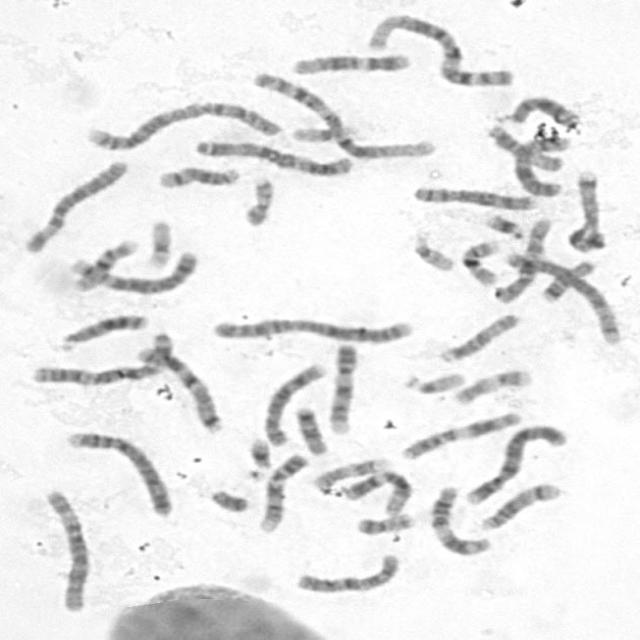A1: (246, 66, 439, 162), (363, 9, 520, 89)
A2: (82, 97, 286, 151), (207, 311, 420, 346)
A3: (24, 328, 174, 388), (188, 134, 356, 178)
B4: (62, 426, 177, 518), (460, 418, 570, 507)
B5: (500, 246, 624, 346), (68, 246, 203, 295)
C10: (489, 214, 554, 305), (291, 548, 404, 596)
C11: (395, 407, 524, 461), (426, 481, 495, 557)
C12: (338, 466, 415, 517), (286, 48, 413, 76)
C6: (19, 155, 130, 255), (38, 484, 92, 615)
C7: (130, 341, 227, 434), (562, 166, 608, 254)
C8: (258, 358, 329, 448), (408, 182, 538, 211)
C9: (254, 449, 310, 534), (323, 338, 360, 436)
D13: (52, 309, 150, 352), (503, 91, 582, 128)
D14: (477, 478, 566, 532), (152, 161, 243, 190)
D15: (434, 308, 523, 363), (482, 119, 568, 173)
E16: (67, 234, 142, 293), (456, 235, 504, 287)
E17: (448, 364, 535, 406), (310, 452, 394, 490)
E18: (538, 256, 596, 304), (290, 402, 332, 457)
F19: (286, 119, 361, 144), (141, 215, 175, 270)
F20: (240, 172, 277, 228), (352, 508, 417, 536)
G21: (480, 209, 527, 240), (244, 432, 275, 473)
G22: (408, 228, 457, 272), (398, 366, 467, 396)
X: (510, 133, 570, 198)
Y: (206, 485, 252, 514)
